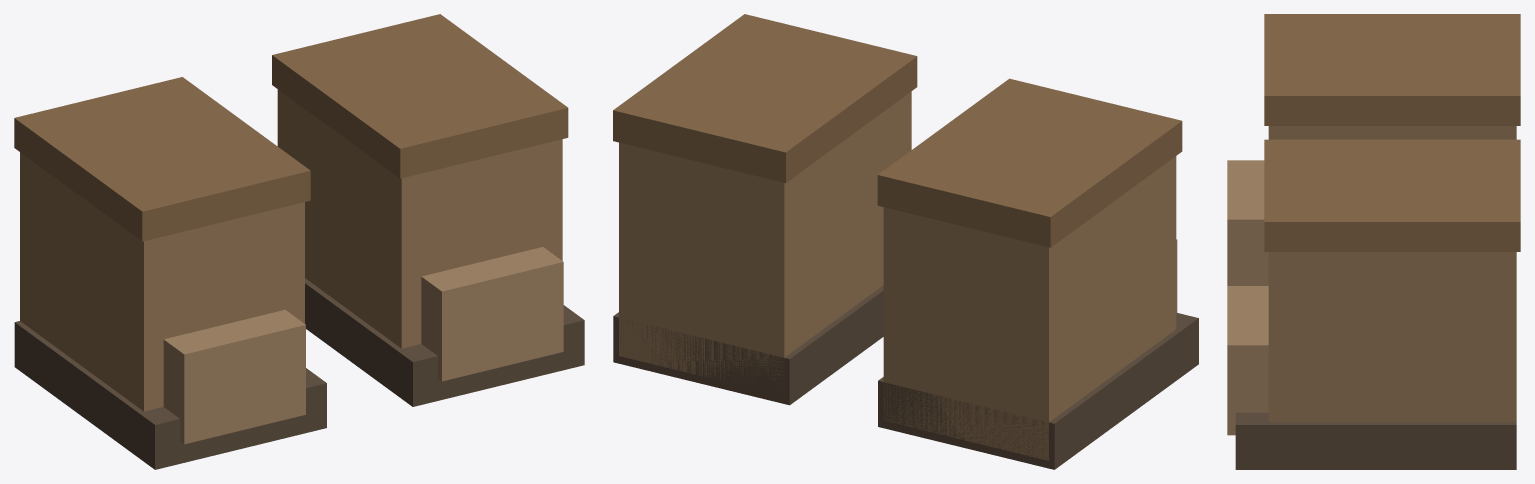
Rendered from av_shoes_boots.glb.
3 views of the same model, side by side, from view 1: azimuth 30°, elevation 25°; view 2: azimuth 150°, elevation 25°; view 3: azimuth 270°, elevation 25° (orthographic). The views are drawn at different scales.
Size of the model in its own units: 0.6 by 0.33 by 0.355.
